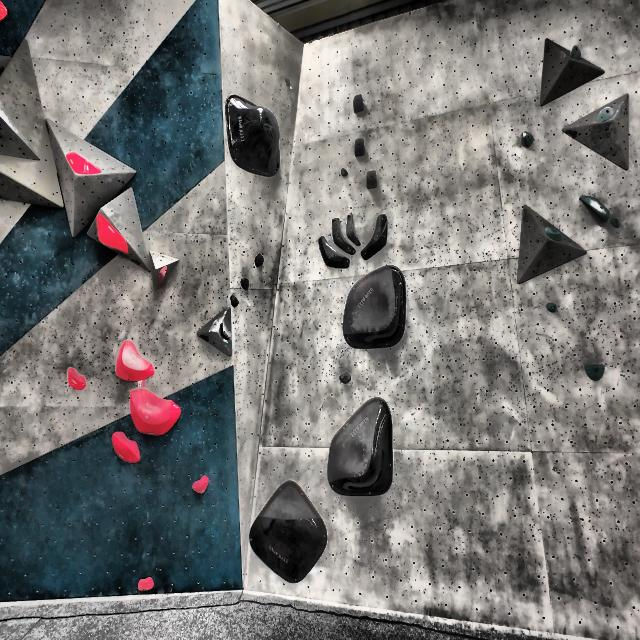Hold: (248, 479, 331, 594), (325, 401, 403, 503), (219, 84, 288, 177), (342, 266, 410, 356), (129, 378, 186, 436), (113, 338, 163, 389), (93, 204, 132, 254), (316, 224, 352, 274), (361, 211, 394, 264), (62, 142, 105, 180), (578, 188, 614, 225), (108, 434, 144, 466), (345, 203, 362, 247), (132, 571, 166, 592), (67, 366, 93, 392), (155, 256, 170, 294), (194, 467, 209, 500), (564, 44, 590, 63), (594, 104, 616, 126), (584, 363, 608, 383), (522, 127, 539, 155), (335, 366, 356, 388), (545, 224, 566, 246), (0, 1, 12, 29), (252, 250, 268, 268), (238, 273, 252, 291), (222, 294, 240, 308), (217, 326, 234, 340), (546, 298, 560, 313)
